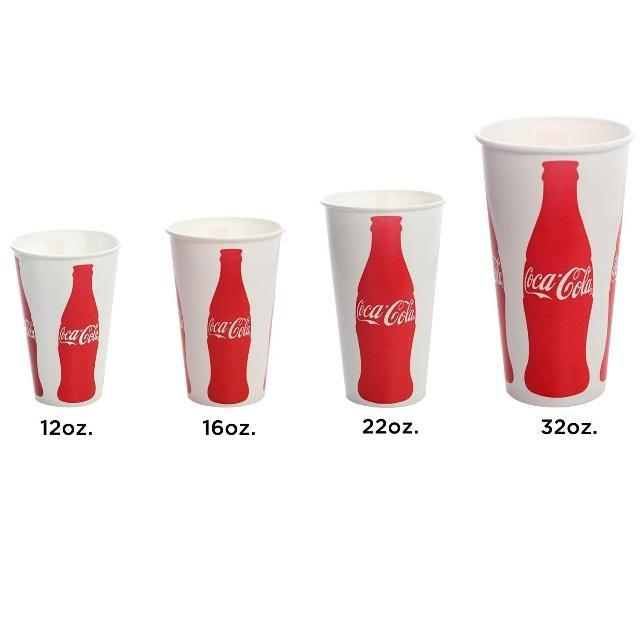paper_cup: (473, 111, 640, 442), (313, 187, 461, 440), (155, 210, 298, 428), (2, 220, 126, 417)
